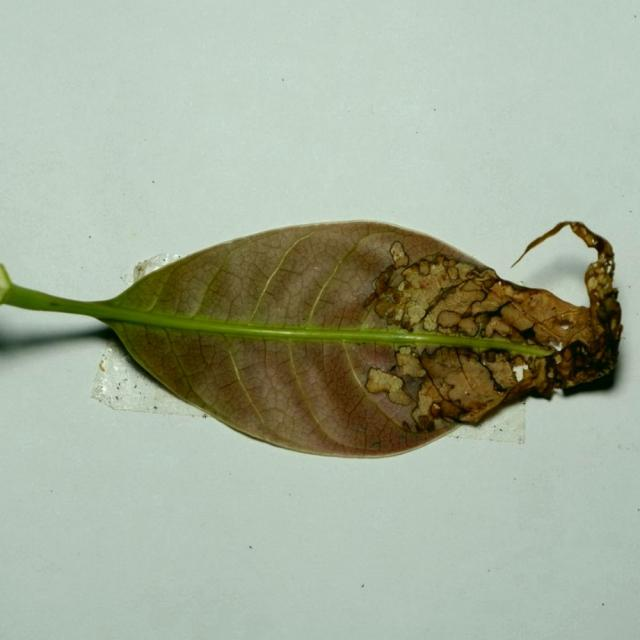Anthracnose: (167, 324, 273, 430), (276, 331, 379, 440), (242, 231, 353, 327), (118, 324, 216, 416), (188, 235, 275, 329), (356, 363, 428, 432), (359, 369, 417, 423), (425, 286, 485, 330), (433, 292, 487, 334), (350, 232, 411, 263), (353, 346, 400, 385), (476, 362, 527, 381)
Mango: (0, 222, 623, 462)
